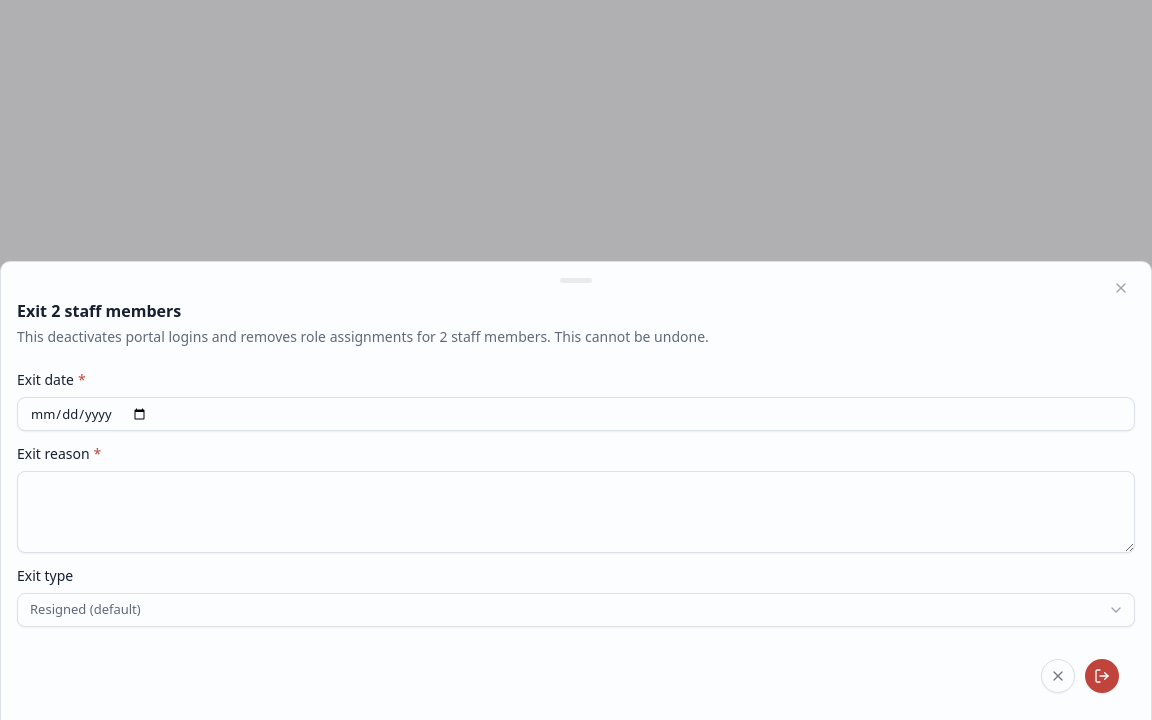
Test case: ExitStaffDialog — mobile drawer › bulk, partial failure: stays open and shows the real backend message
In the date field labelled "Exit date*": (576, 414) [17,397,1135,431], type "2026-09-10"
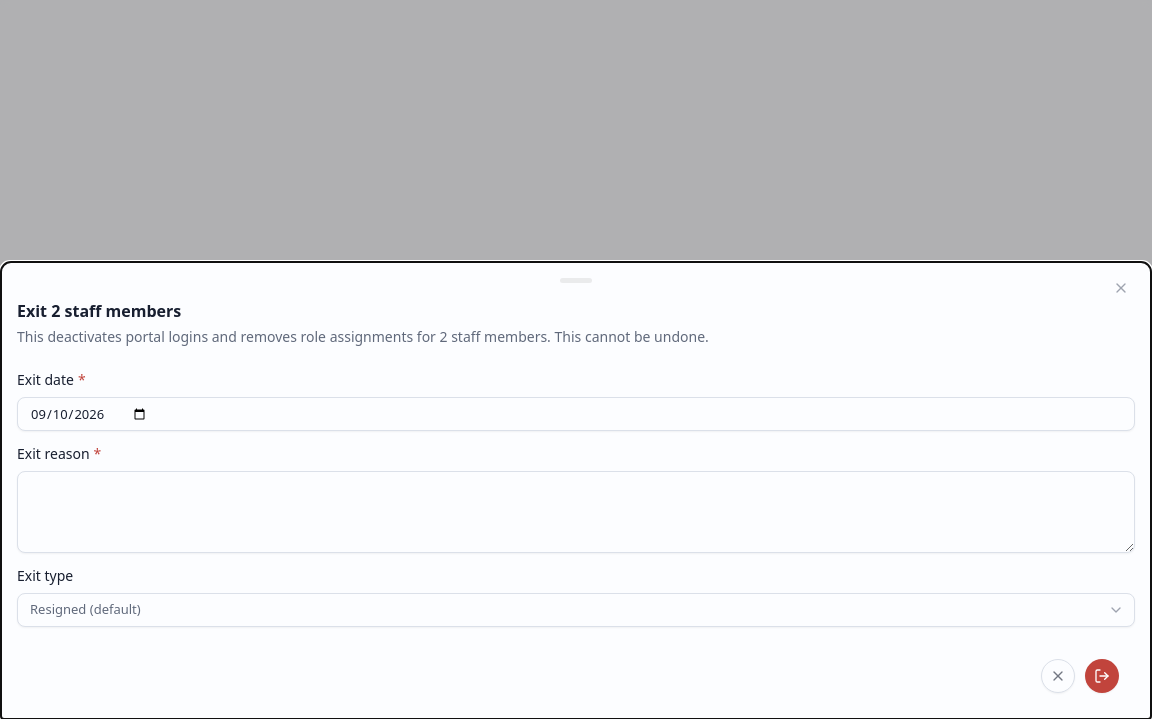
In the text box labelled "Exit reason*": (576, 512) [17,471,1135,553], type "Bulk exit attempt"
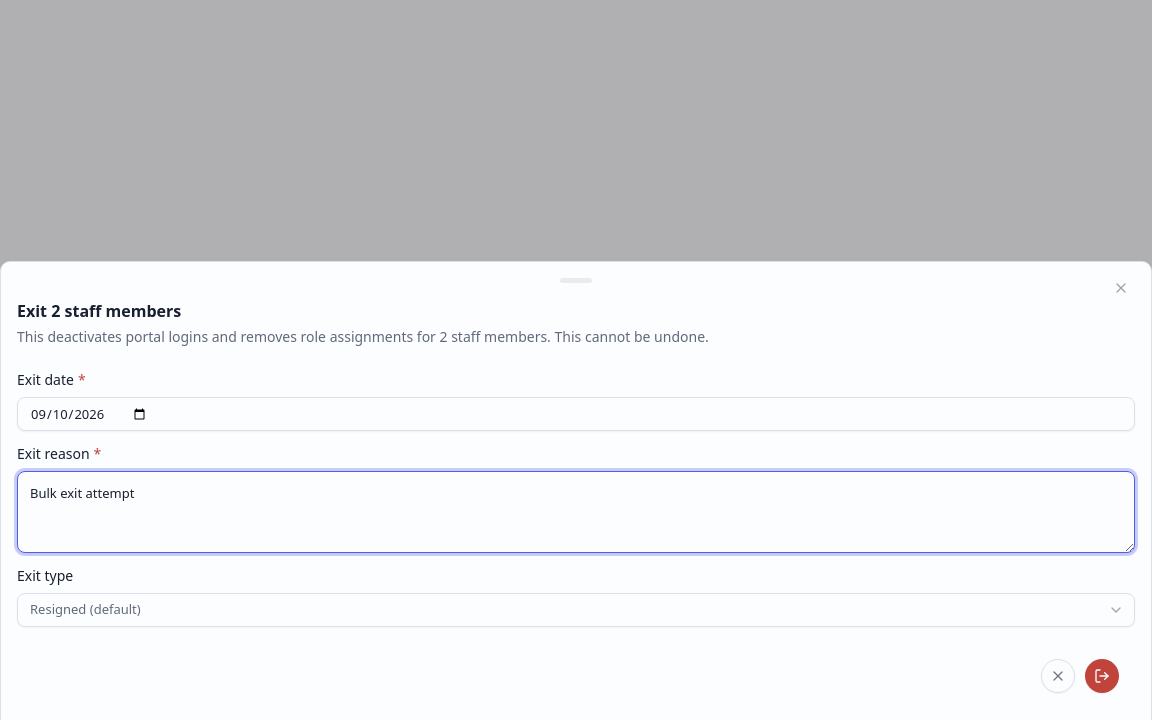
Click the button named "exit staff members": (1102, 676) [1085,659,1119,693]
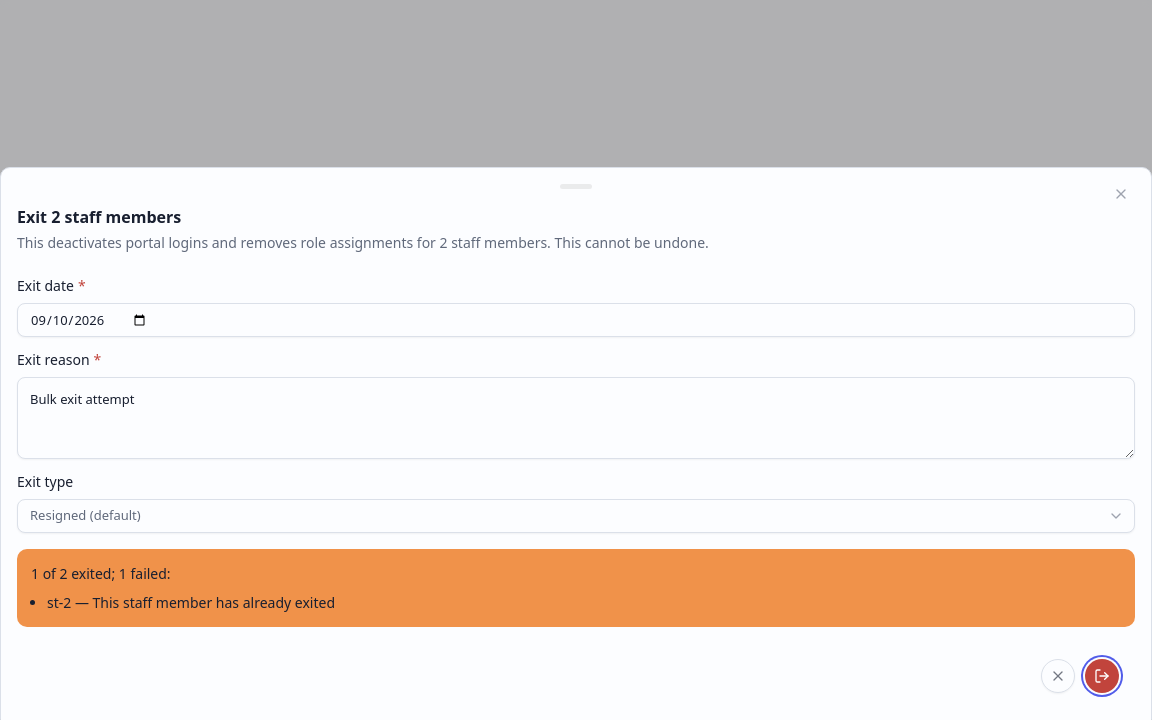
expect the list item "st-2 — This staff member has already exited" is shown: met, box [47,593,335,613]
